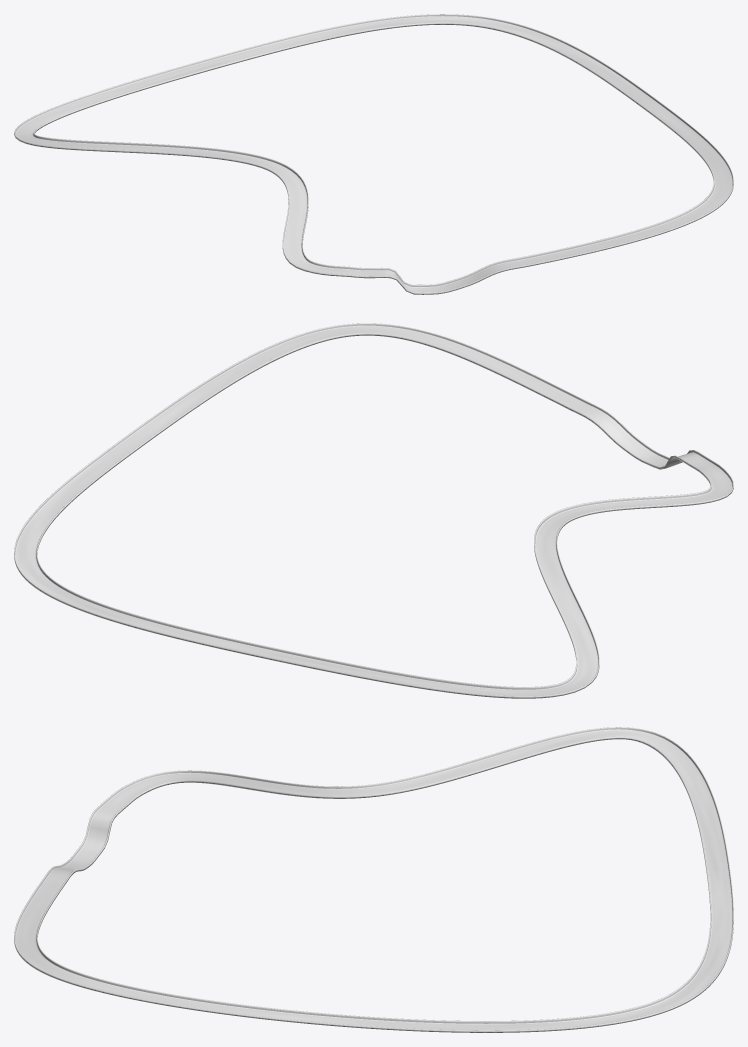
File: JumpMap_walls.fbx
3 renders of one model, top to bottom at view 1: azimuth 30°, elevation 25°; view 2: azimuth 150°, elevation 25°; view 3: azimuth 270°, elevation 25°, orthographic. The views are drawn at different scales.
Parts seen in each view (by area): view 1: loftedSurface5; view 2: loftedSurface5; view 3: loftedSurface5.
Boxes of the visible parts, x1=… form: loftedSurface5: x1=14, y1=14, x2=733, y2=294; loftedSurface5: x1=14, y1=323, x2=733, y2=698; loftedSurface5: x1=14, y1=727, x2=733, y2=1032.
Size of the model in its own units: 1573 by 122 by 1606.
Materials: 1 (1 with a texture image).
